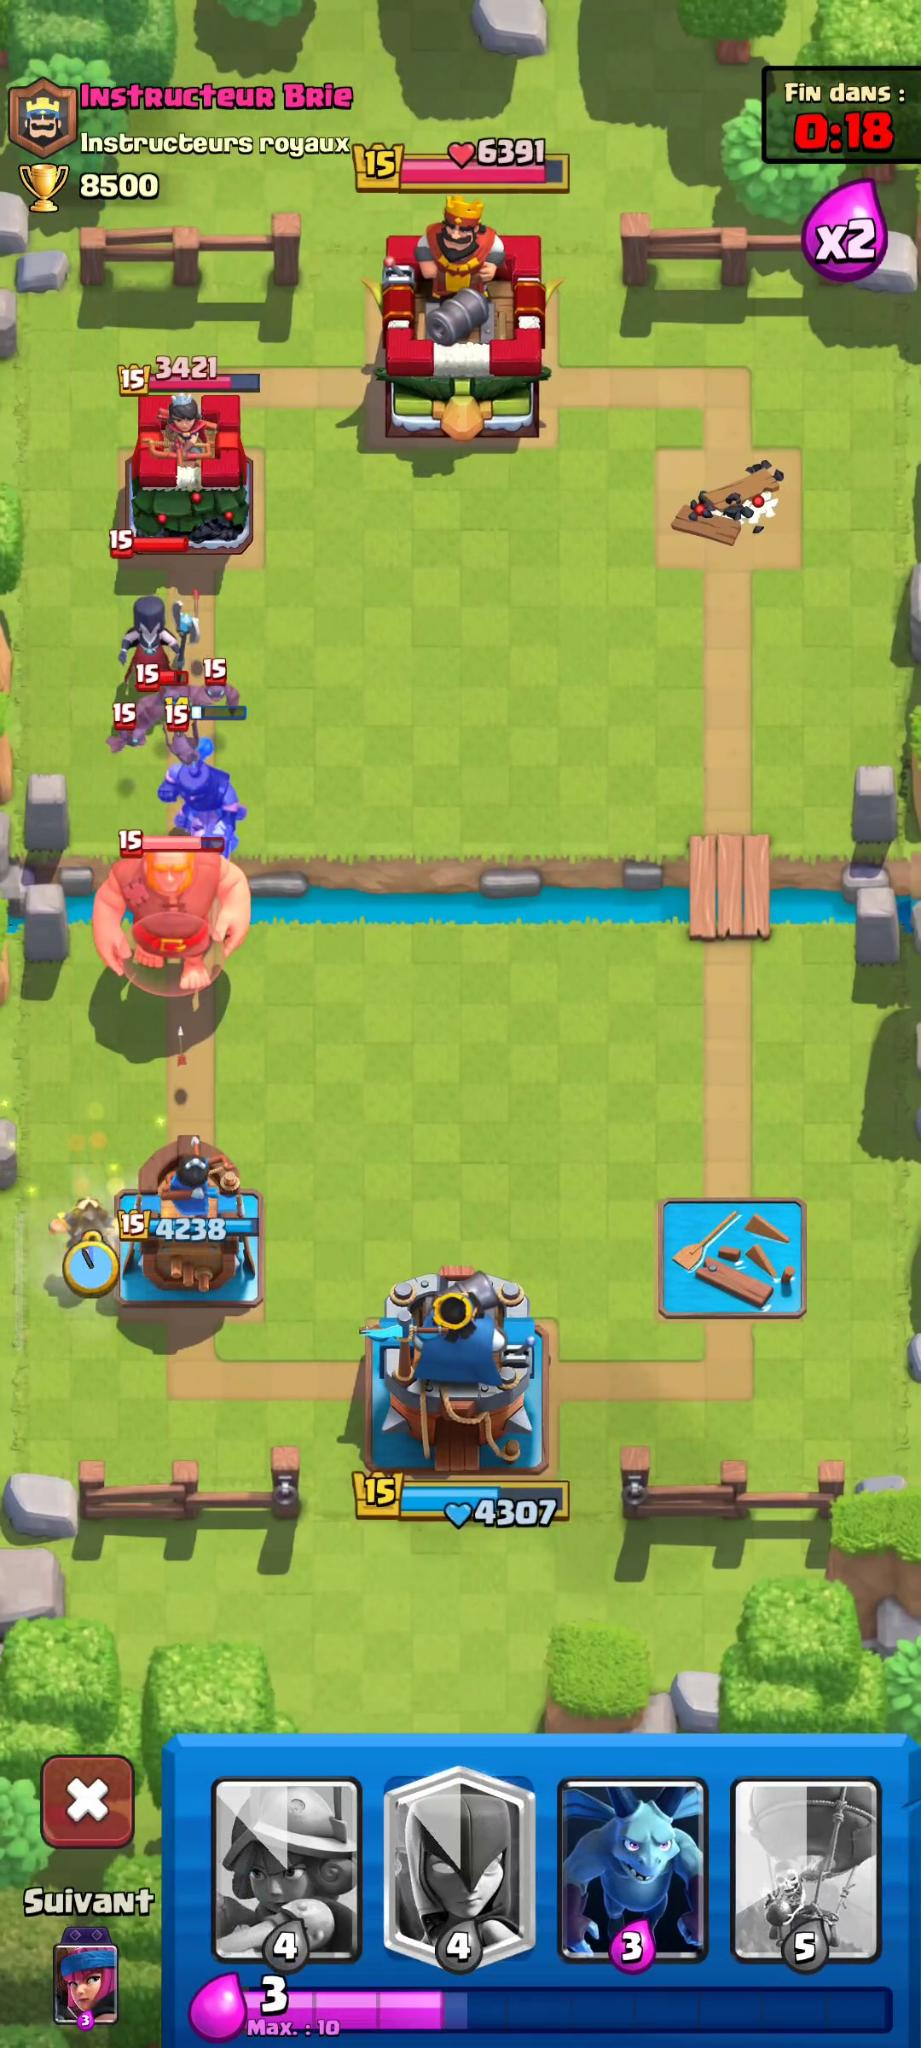bat: (182, 649, 256, 734), (123, 643, 196, 714), (99, 700, 162, 756), (142, 711, 216, 751)
geant: (91, 816, 256, 1010)
